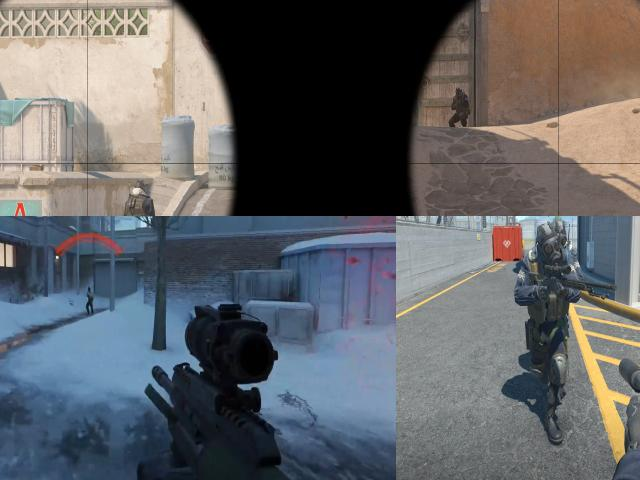CT: (526, 228, 560, 430), (554, 218, 576, 388), (128, 177, 153, 216), (450, 85, 470, 122)
CT-Head: (534, 224, 556, 264), (554, 222, 567, 250), (134, 180, 146, 193), (454, 85, 462, 96)
T: (86, 283, 94, 312)
